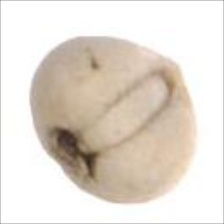L5: (78, 69, 175, 154), (42, 124, 103, 192), (145, 47, 192, 98)
L6: (28, 35, 199, 204)
